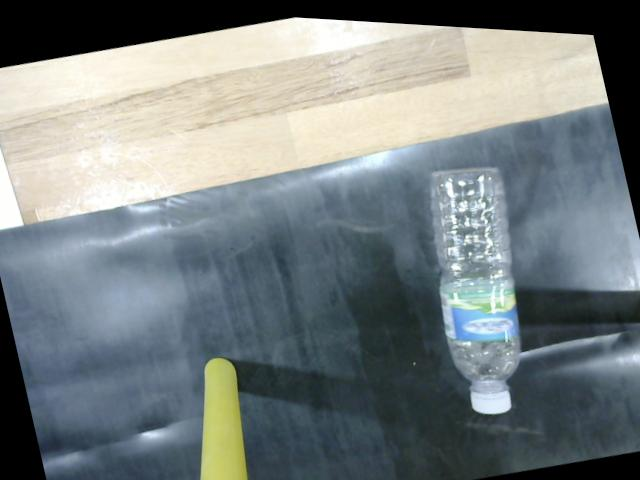bottle: (421, 153, 530, 408)
